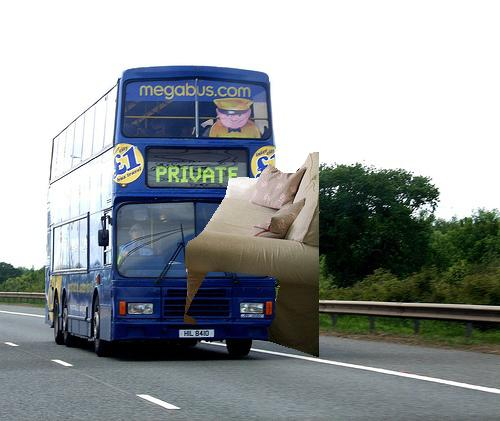tampered: (184, 153, 319, 357)
